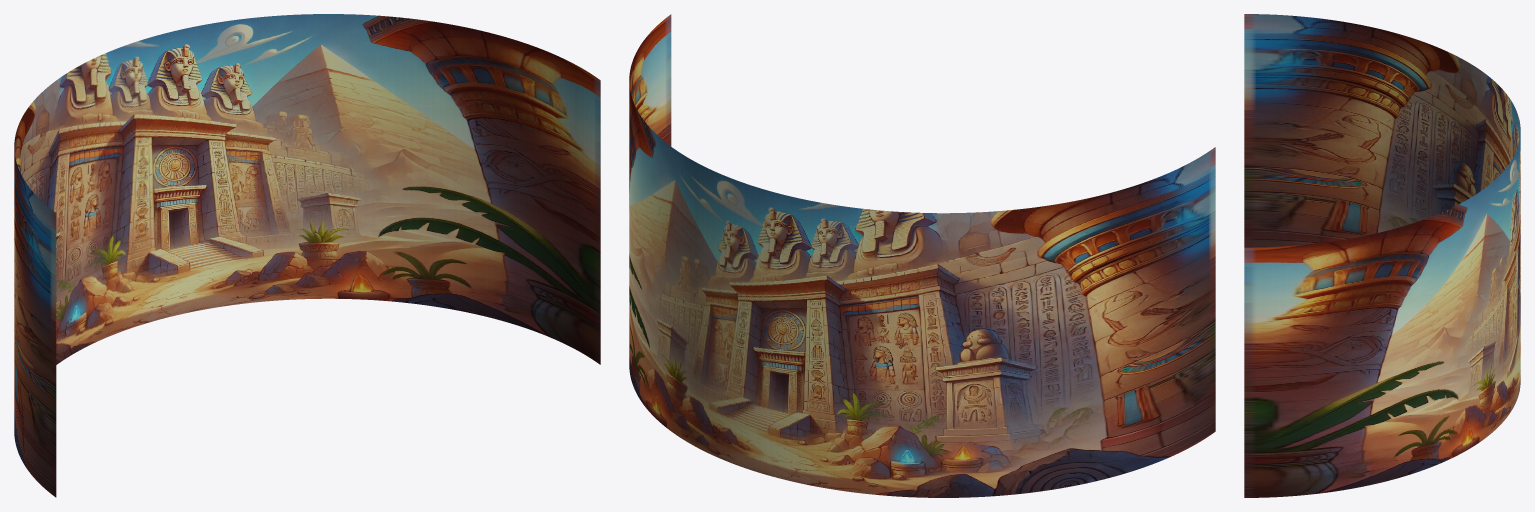
The model's file is Background_fbx_common_textured.fbx.
3 views of the same model, side by side, from view 1: azimuth 30°, elevation 25°; view 2: azimuth 150°, elevation 25°; view 3: azimuth 270°, elevation 25° (orthographic). The views are drawn at different scales.
Parts seen in each view (by area): view 1: Obj; view 2: Obj; view 3: Obj.
Boxes of the visible parts, x1,y1,x2,y2 form: Obj: (14,14,600,497); Obj: (629,14,1215,497); Obj: (1244,14,1520,497).
Size of the model in its own units: 200 by 100 by 100.
1 material, 1 textured.
